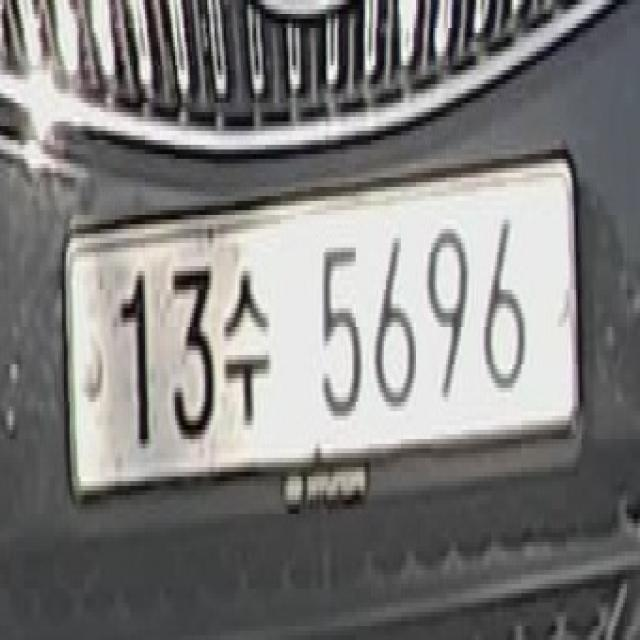1: (117, 243, 162, 467)
3: (166, 248, 218, 462)
5: (316, 229, 369, 434)
6: (480, 210, 536, 416), (369, 215, 420, 439)
9: (420, 210, 476, 430)
license_plate: (59, 140, 584, 556)
su: (220, 252, 273, 444)
